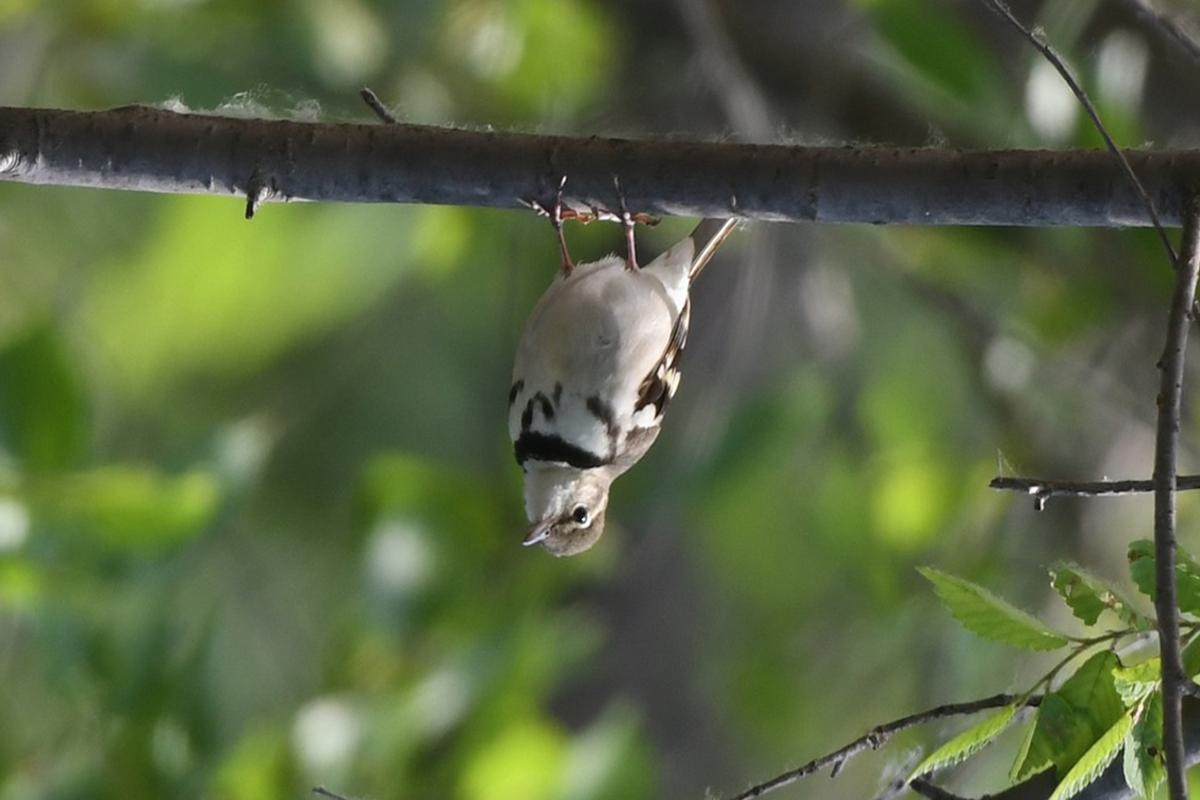wagtail: (495, 177, 779, 576)
